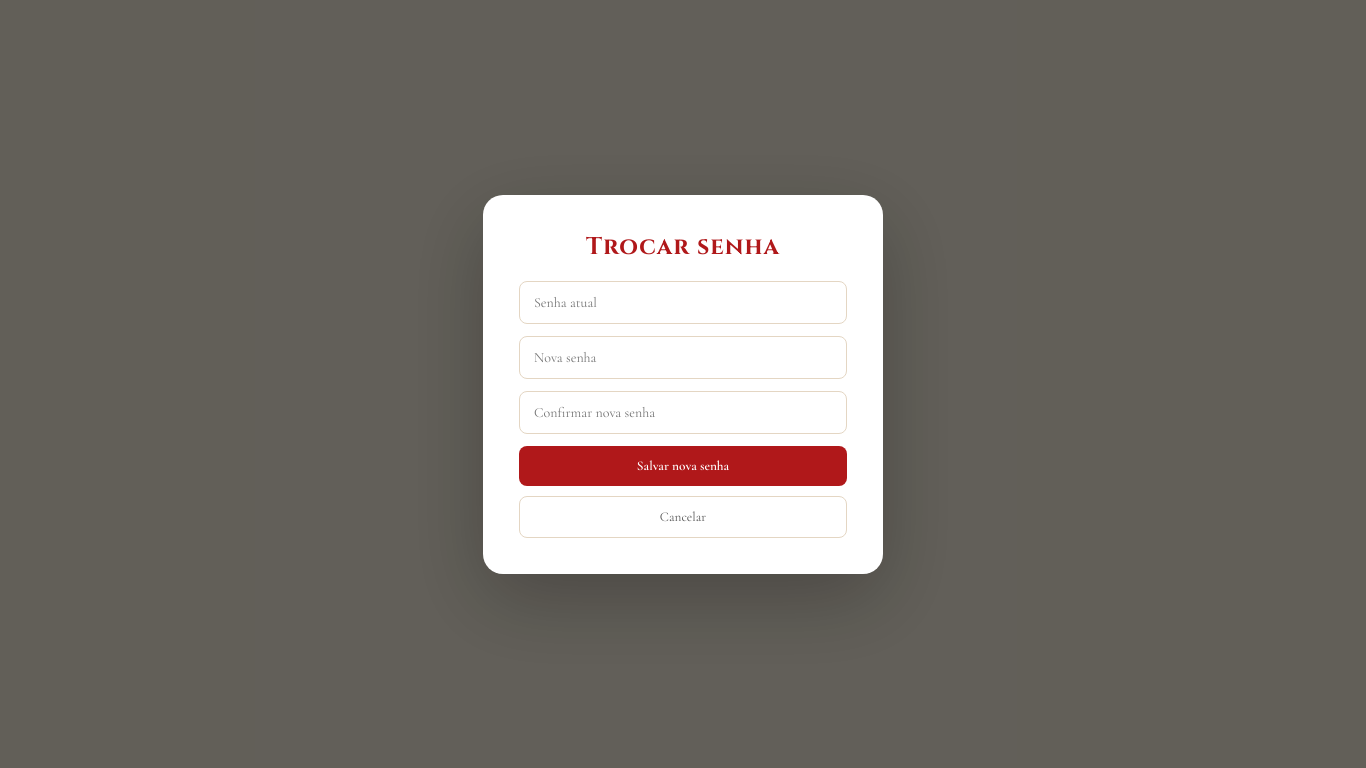
Test case: ChangePasswordModal › rejects mismatched new passwords
Type "old" into the password field with placeholder "Senha atual".
click(683, 302); type("old")  # box [519, 280, 847, 324]
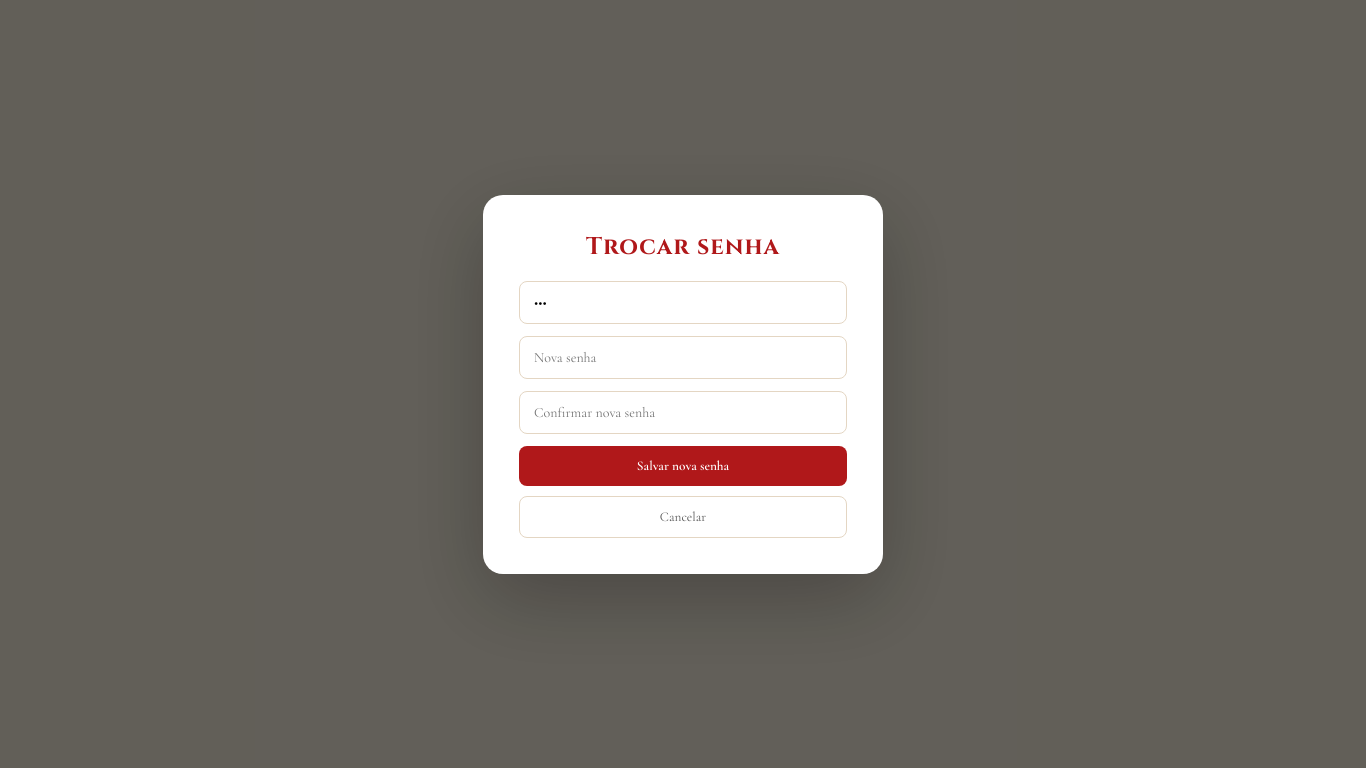
Type "abcd1234" into the password field with placeholder "Nova senha".
click(683, 357); type("abcd1234")  # box [519, 336, 847, 378]
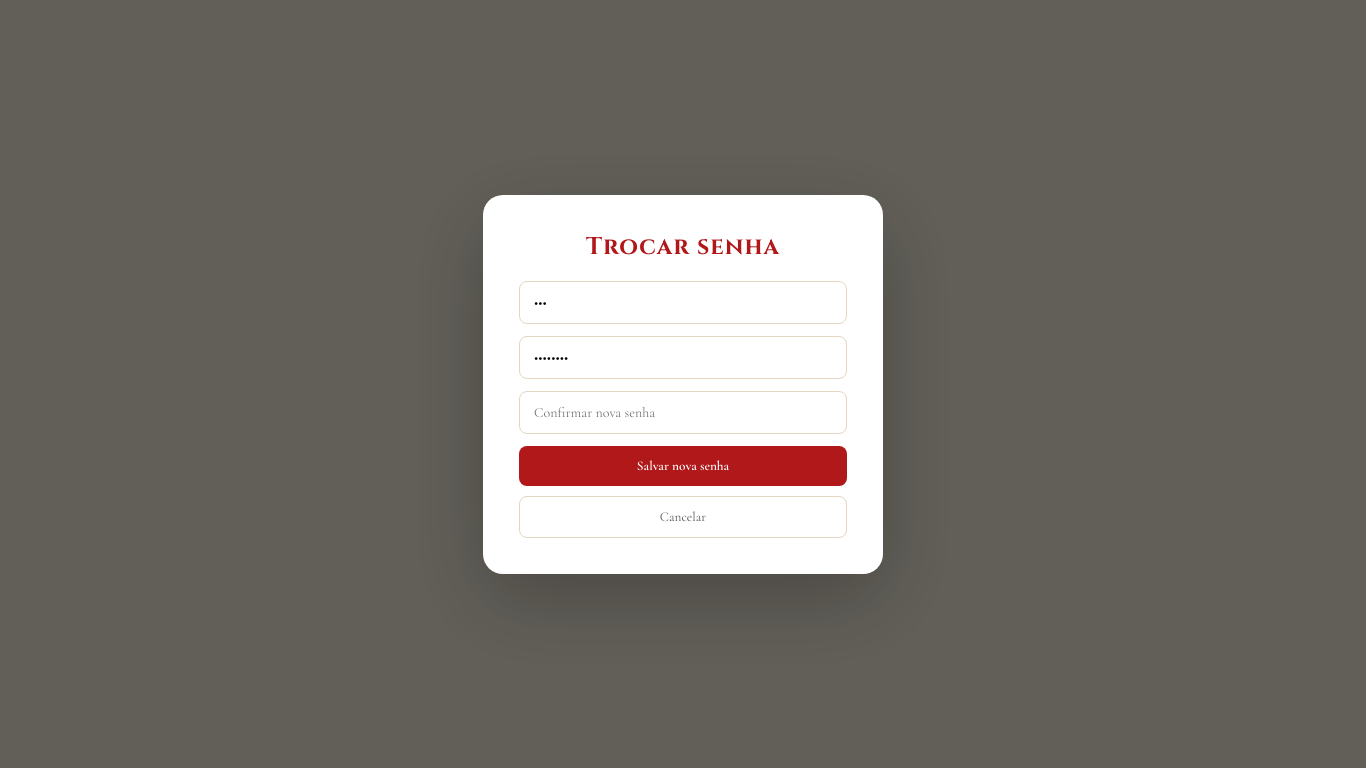
Type "abcd9999" into the password field with placeholder "Confirmar nova senha".
click(683, 412); type("abcd9999")  # box [519, 390, 847, 434]
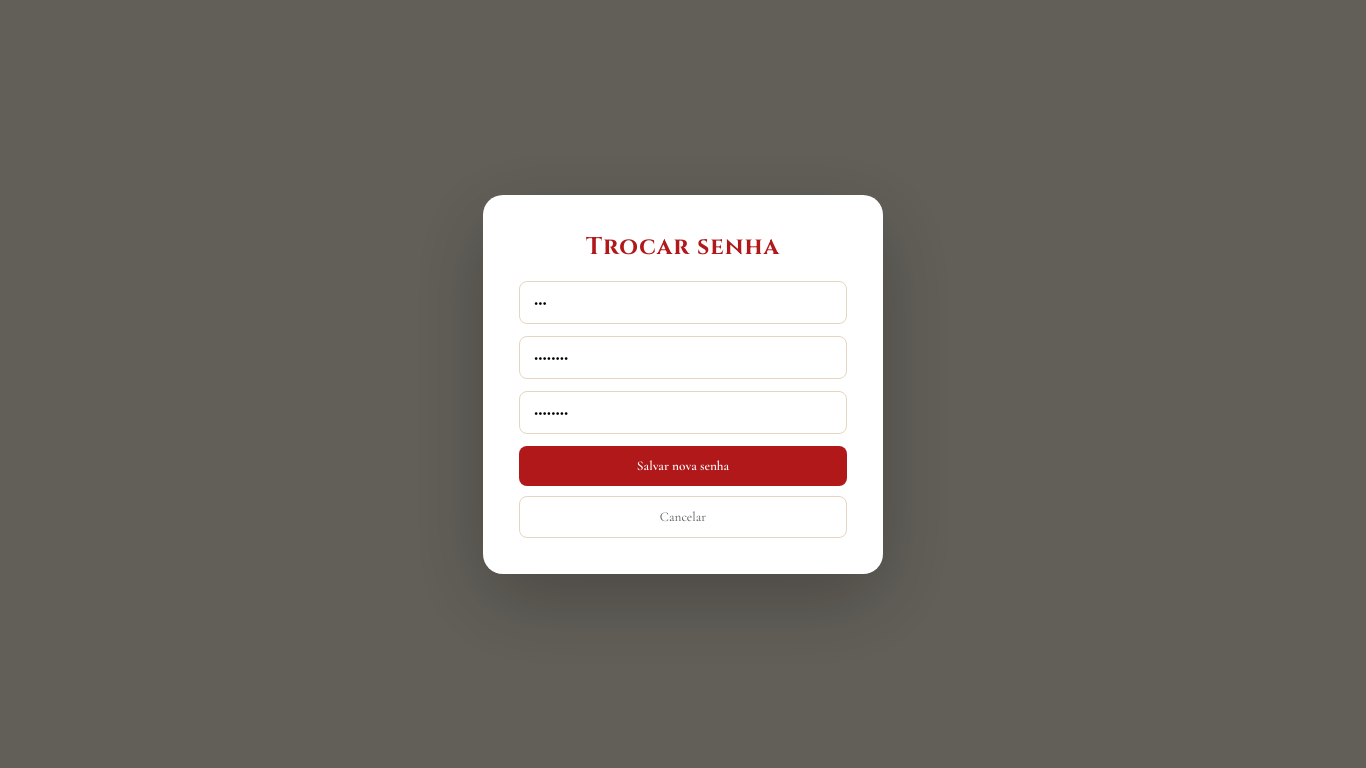
Click the button "Salvar nova senha".
click(683, 466)  # box [519, 446, 847, 486]
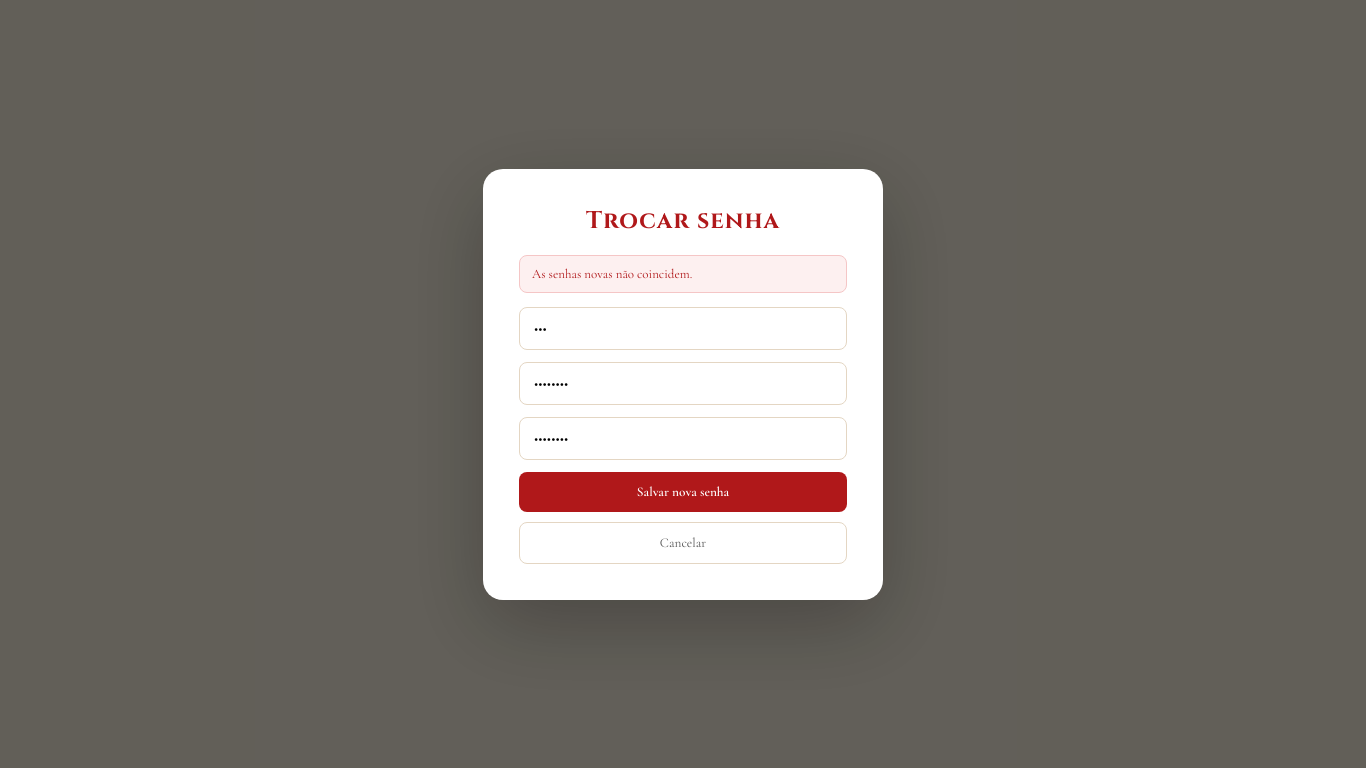
expect the text "As senhas novas não coincidem." is shown: met, box [519, 254, 847, 292]
